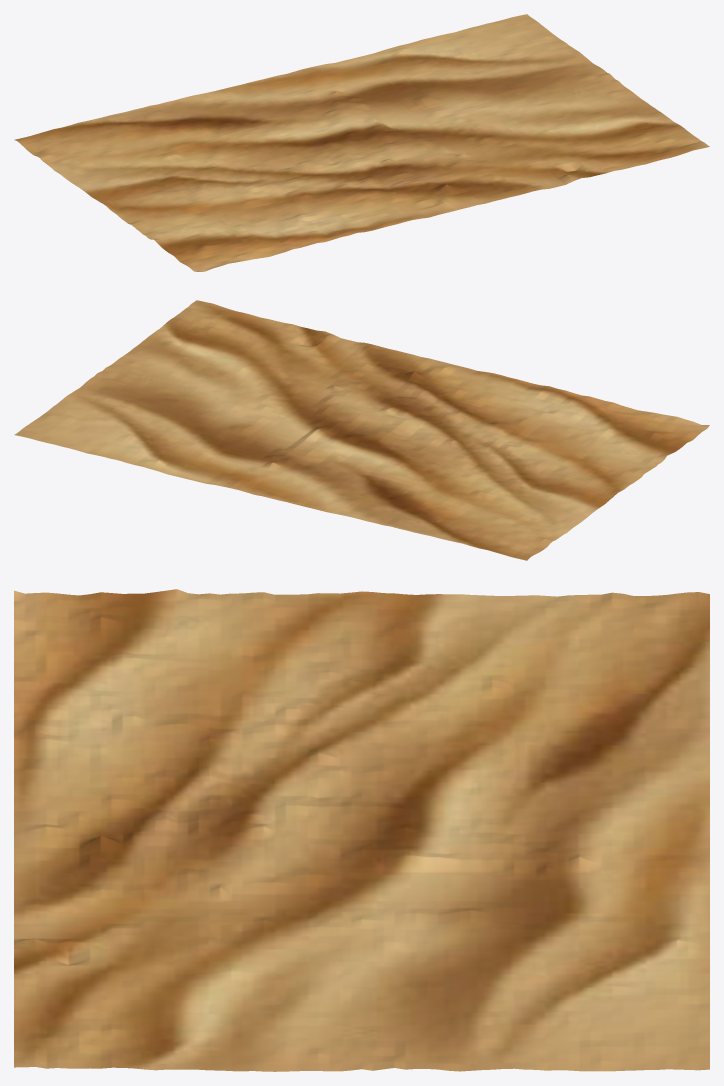
The model's file is Ridaniya.glb.
The picture shows the model from 3 angles, top to bottom: view 1: azimuth 30°, elevation 25°; view 2: azimuth 150°, elevation 25°; view 3: azimuth 270°, elevation 25°; orthographic projection. The views are drawn at different scales.
Visible parts, largest first — view 1: srtm; view 2: srtm; view 3: srtm.
Part boxes in pixels (box(x1,y1,x2,y2)): srtm: box(14, 14, 709, 271); srtm: box(14, 300, 709, 560); srtm: box(14, 589, 709, 1071).
Size of the model in its own units: 5442 by 95.41 by 3359.
1 material, 1 textured.
